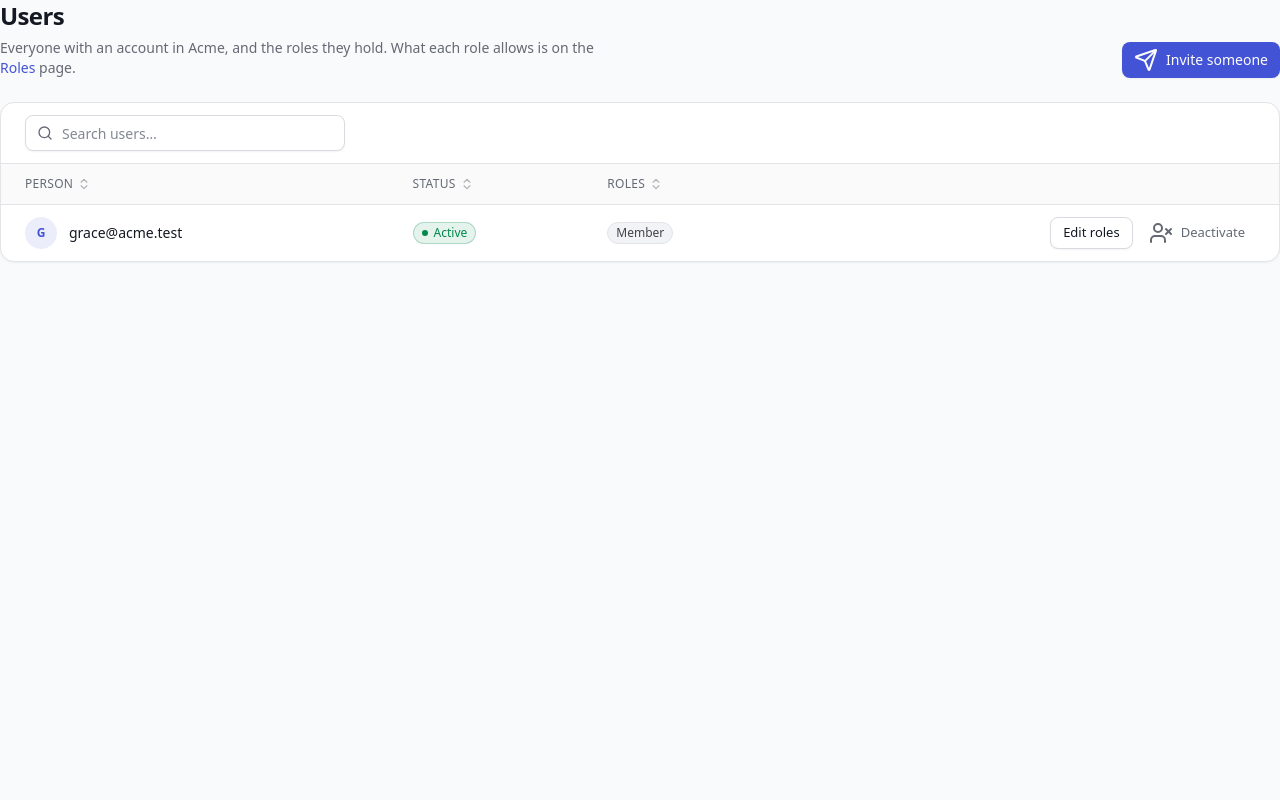
users page › invites someone from the roster, offering only people without an account
The width and height of the screenshot is (1280, 800).
Expected: the cell "Member" is shown, top-left (591, 204), bottom-right (788, 260)
What coordinates should you click on to do the following:
click the button "Invite someone"
I would click on:
 (1201, 60)
Its box is top-left (1122, 42), bottom-right (1279, 78).
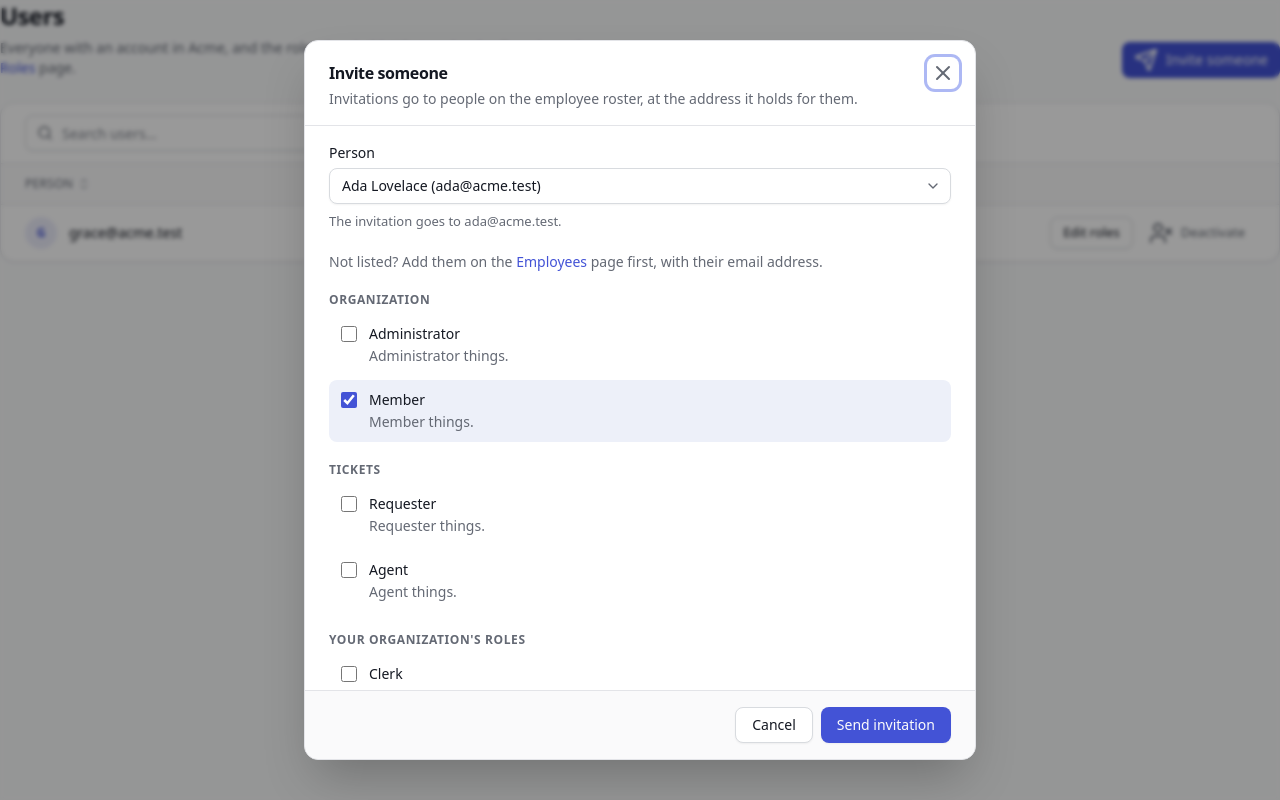
What coordinates should you click on to do the following:
click the button "Send invitation"
I would click on:
 (886, 725)
Its box is top-left (821, 707), bottom-right (951, 743).
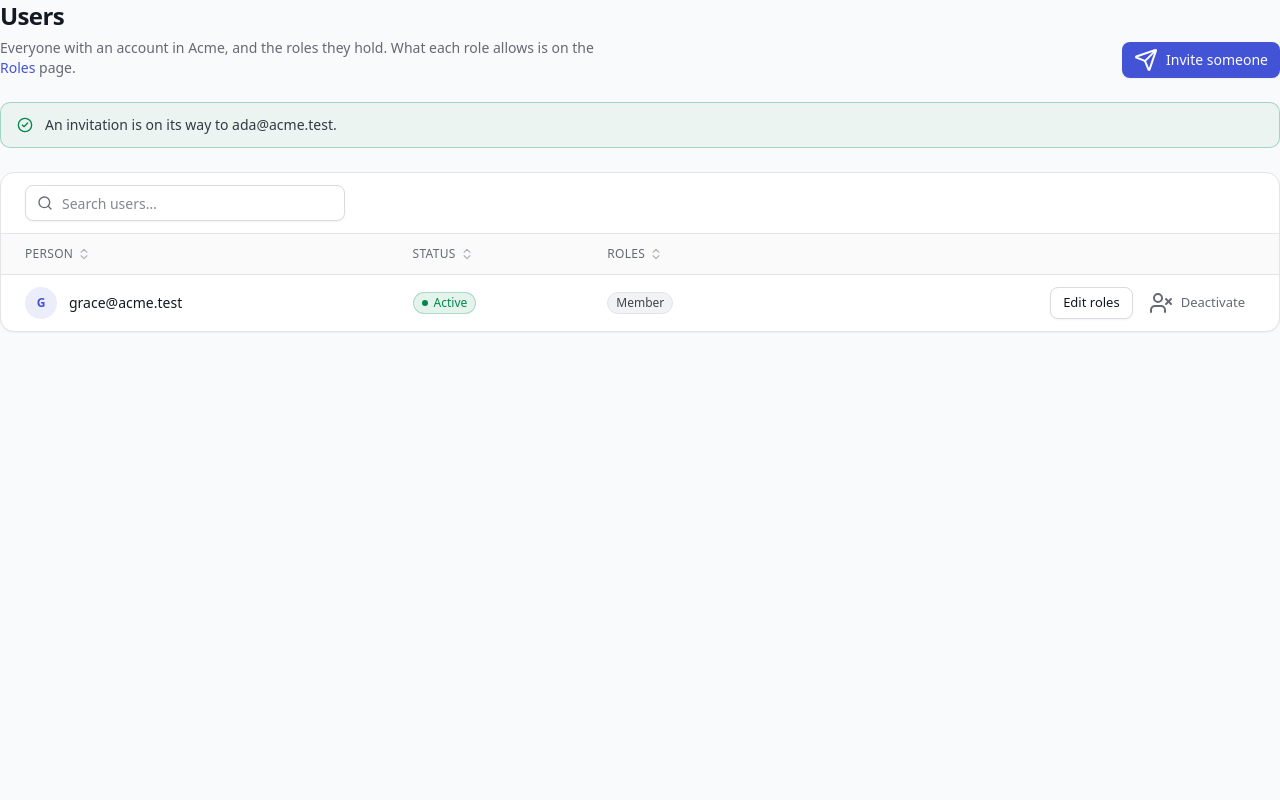
Expected: the text "An invitation is on its way to ada@acme.test." is shown, top-left (45, 115), bottom-right (337, 135)
